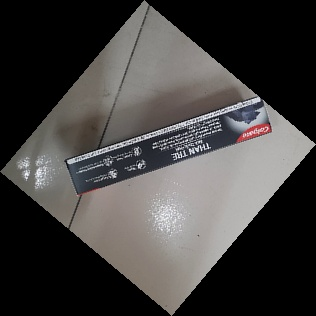Colgate Than: (64, 95, 272, 196)
